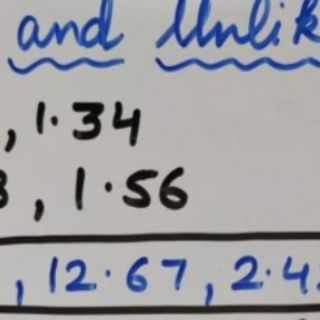.: (101, 177, 114, 194), (49, 113, 60, 129), (103, 265, 113, 279), (264, 264, 272, 277)
1: (73, 164, 89, 213), (32, 98, 49, 137), (45, 255, 58, 294)
2: (229, 253, 264, 292), (64, 257, 98, 293)
3: (70, 96, 105, 143)
4: (112, 95, 142, 150), (281, 252, 312, 297)
5: (121, 168, 158, 209)
6: (158, 165, 191, 211), (123, 255, 154, 293)
7: (159, 254, 187, 293)
